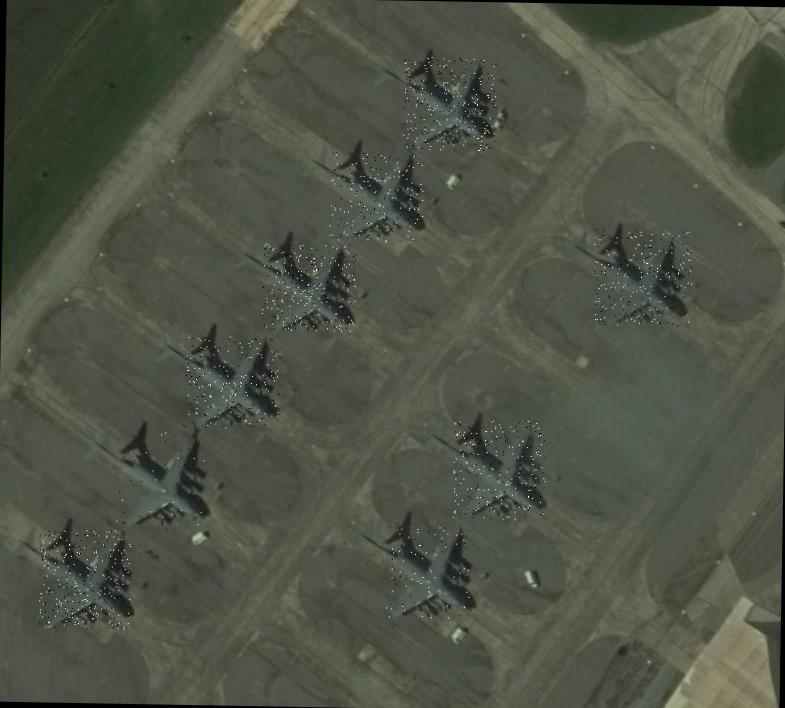A3: (592, 228, 692, 326), (113, 431, 210, 532), (452, 419, 546, 520), (38, 528, 131, 630), (182, 335, 280, 429), (402, 56, 496, 151), (383, 522, 474, 620), (328, 152, 424, 243), (261, 242, 356, 332)
